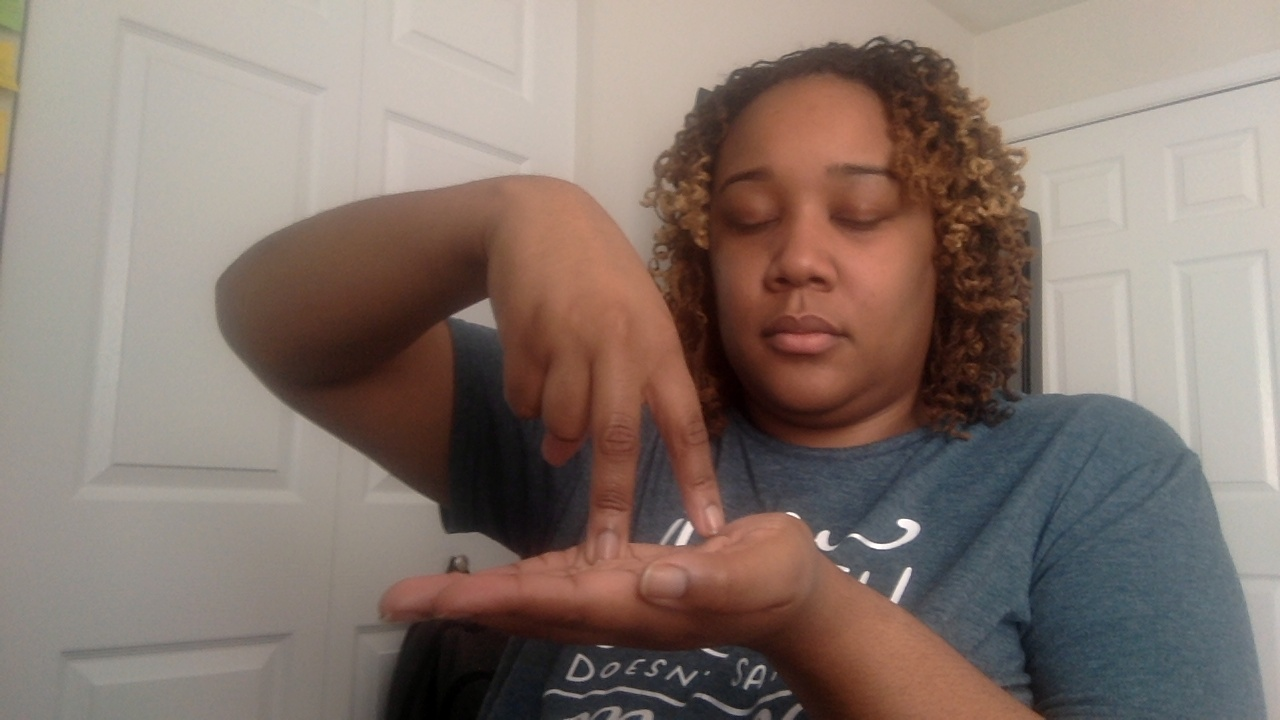fork: (216, 173, 736, 691)
